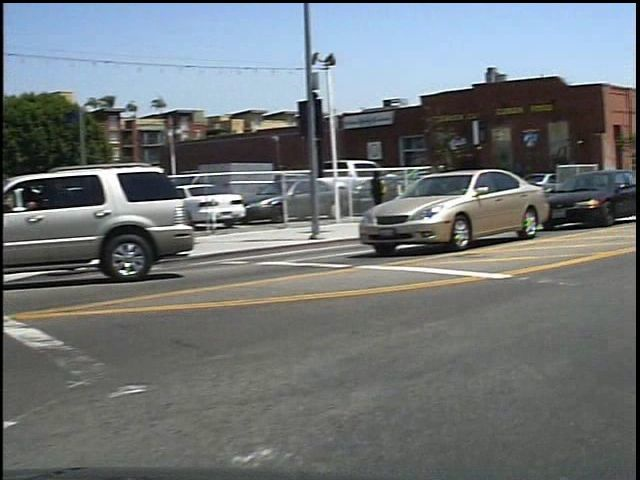person: (374, 169, 400, 228)
